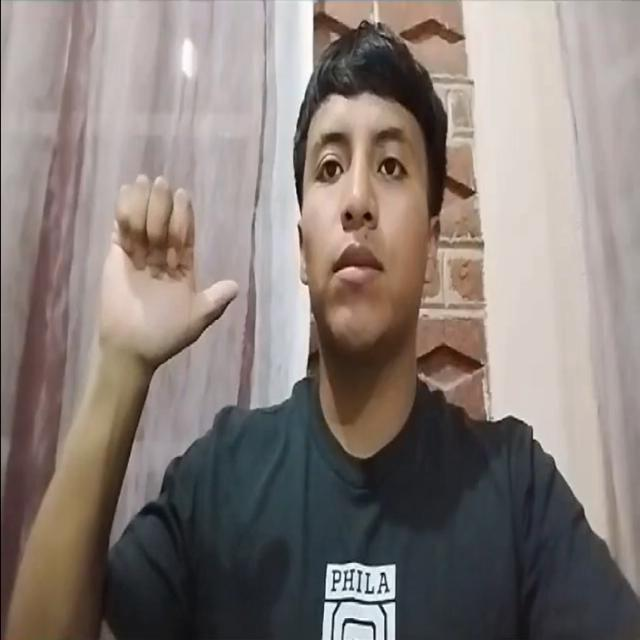A: (87, 156, 266, 372)
